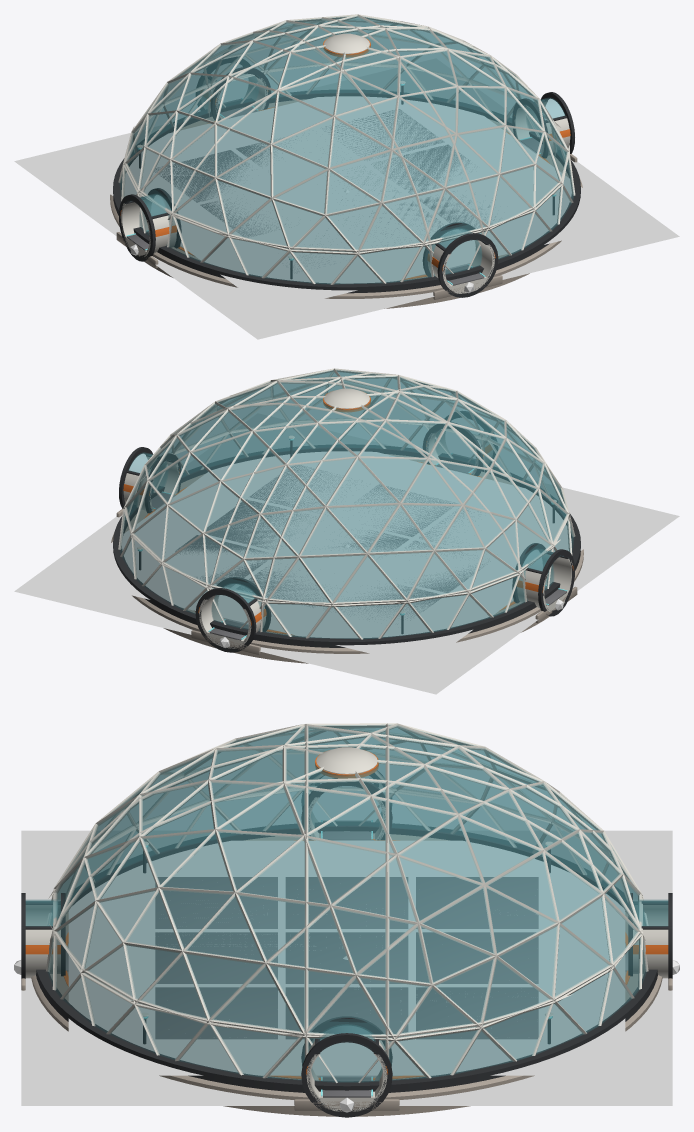
Rendered from dome_5x5.gltf.
The picture shows the model from 3 angles, top to bottom: view 1: azimuth 30°, elevation 25°; view 2: azimuth 150°, elevation 25°; view 3: azimuth 270°, elevation 25°; orthographic projection. The views are drawn at different scales.
Visible parts, largest first — view 1: DomeSmall, %P%Interior, %P%Footprint, %V%AnchorIn.003+, %V%AnchorIn.001+, %V%AnchorIn+, %V%AnchorIn.002+, %V%AnchorIn.003-, %V%AnchorIn.002-; view 2: DomeSmall, %P%Interior, %P%Footprint, %V%AnchorIn.002+, %V%AnchorIn.001+, %V%AnchorIn+, %V%AnchorIn.003+, %V%AnchorIn.002-, %V%AnchorIn.003-; view 3: DomeSmall, %P%Interior, %P%Footprint, %V%AnchorIn+, %V%AnchorIn.003+, %V%AnchorIn.002+, %V%AnchorIn-, %V%AnchorIn.001+, %V%AnchorIn.001-.
Part boxes in pixels (x1,y1,x2,y2): DomeSmall: [110, 14, 582, 308]; %P%Interior: [63, 72, 630, 311]; %P%Footprint: [14, 59, 679, 339]; %V%AnchorIn.003+: [422, 222, 502, 299]; %V%AnchorIn.001+: [116, 188, 181, 268]; %V%AnchorIn+: [512, 92, 577, 162]; %V%AnchorIn.002+: [196, 57, 271, 120]; %V%AnchorIn.003-: [431, 232, 481, 276]; %V%AnchorIn.002-: [210, 75, 258, 111]; DomeSmall: [111, 368, 583, 663]; %P%Interior: [63, 427, 630, 666]; %P%Footprint: [14, 413, 679, 694]; %V%AnchorIn.002+: [191, 577, 271, 654]; %V%AnchorIn.001+: [512, 543, 577, 623]; %V%AnchorIn+: [116, 447, 181, 517]; %V%AnchorIn.003+: [422, 411, 497, 476]; %V%AnchorIn.002-: [210, 588, 262, 631]; %V%AnchorIn.003-: [435, 430, 482, 463]; DomeSmall: [31, 723, 662, 1116]; %P%Interior: [68, 840, 625, 1075]; %P%Footprint: [21, 830, 672, 1105]; %V%AnchorIn+: [294, 1016, 399, 1117]; %V%AnchorIn.003+: [21, 893, 68, 990]; %V%AnchorIn.002+: [625, 893, 672, 990]; %V%AnchorIn-: [307, 1037, 386, 1082]; %V%AnchorIn.001+: [301, 771, 392, 840]; %V%AnchorIn.001-: [308, 789, 385, 826].
Size of the model in its own units: 10.23 by 3.87 by 10.22.
